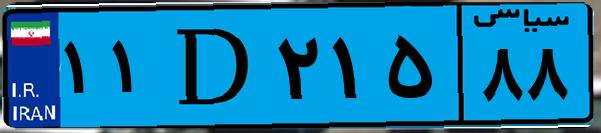1: (330, 28, 385, 110), (57, 26, 110, 100), (110, 28, 158, 98)
2: (270, 28, 330, 110)
5: (385, 28, 445, 110)
8: (475, 38, 525, 113), (525, 38, 570, 115)
D: (158, 12, 270, 120)
